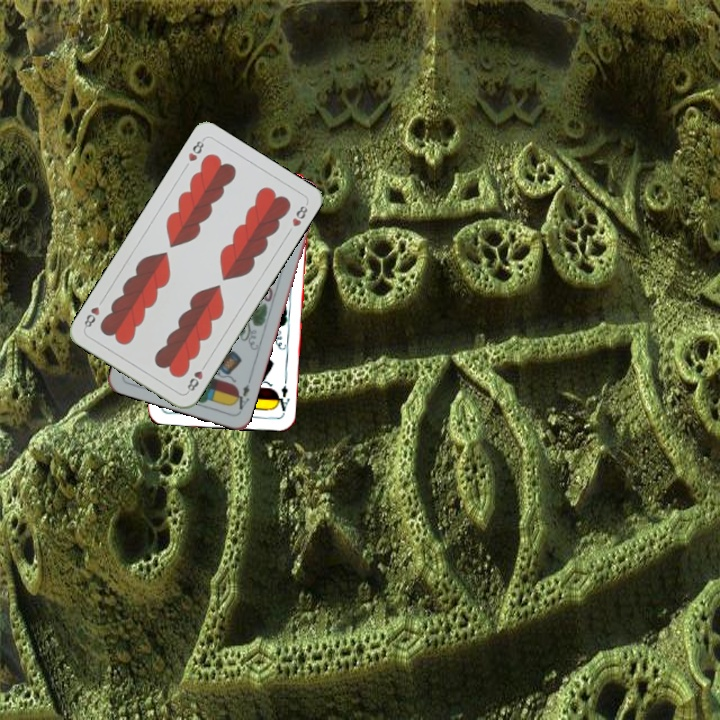EA: (272, 381, 292, 417), (230, 380, 252, 412)
H8: (183, 359, 209, 395), (184, 135, 207, 164)
